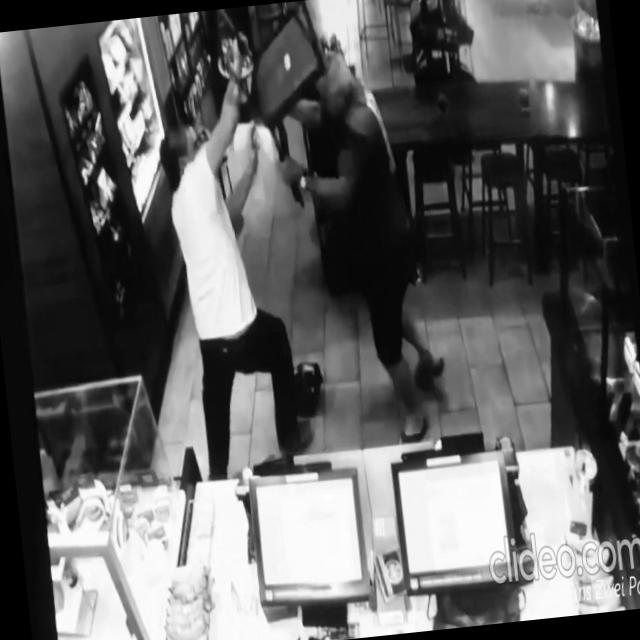person: (146, 26, 319, 483), (264, 43, 454, 456)
